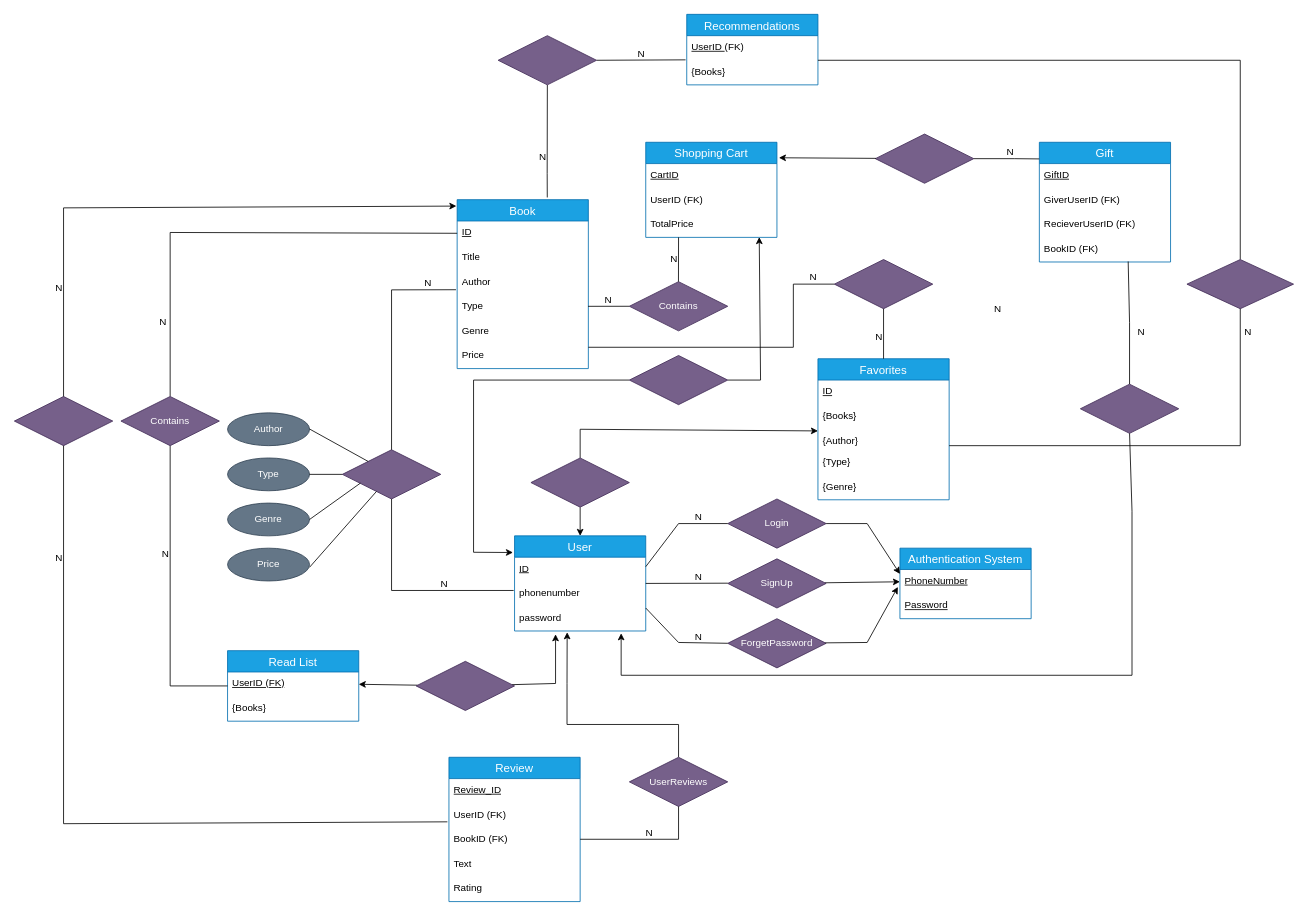
Some shapes in this 1308 by 918 pixel diagram are drawn without their labels. The centre of each missing label's shape, as x and y in pixels:
"BookReviews" goes at [63,421].
"Favorites Suggested" goes at [1240,284].
"Gifted_Items" goes at [924,158].
"Interested_In" goes at [579,482].
"IsFavorite" goes at [883,284].
"LikedBooks" goes at [547,60].
"Management" goes at [678,380].
"ReadBooks" goes at [465,686].
"Recieved_Gifts" goes at [1129,408].
"Search" goes at [391,474].
